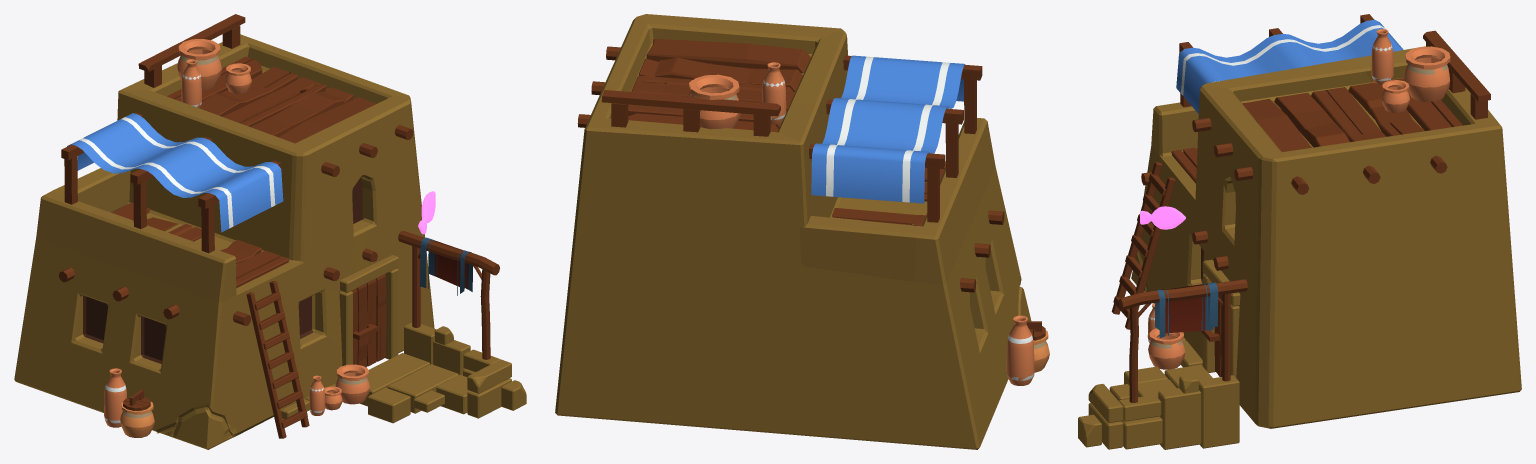
File: desert-house.glb
3 renders of one model, left to right at view 1: azimuth 30°, elevation 25°; view 2: azimuth 150°, elevation 25°; view 3: azimuth 270°, elevation 25°, orthographic. The views are drawn at different scales.
Visible parts, largest first — view 1: 整体, 布料, 屋顶木块, 布料架子, 房门, 屋顶木块.001, 楼梯1.001, 平面.002, 柱体.001, 柱体.007, 楼梯1, 柱体.008 (+24 smaller); view 2: 整体, 布料, 屋顶木块, 平面.002, 布料架子, 柱体.008, 小罐子.001, 屋顶木块.001, 小罐子.004, 柱体.003, 带把手罐; view 3: 整体, 屋顶木块, 布料, 屋檐台阶.004, 柱体.007, 屋檐台阶.003, 柱体.008, 柱体.001, 平面.002, 楼梯1.001, 楼梯1, 柱体.010 (+20 smaller).
Part boxes in pixels (x1,y1,x2,y2): 整体: (14,34,434,449); 布料: (67,113,283,232); 屋顶木块: (167,56,375,143); 布料架子: (61,112,281,253); 房门: (351,274,386,367); 屋顶木块.001: (112,202,289,287); 楼梯1.001: (246,281,309,438); 平面.002: (138,14,245,87); 柱体.001: (233,231,499,325); 柱体.007: (420,237,472,295); 楼梯1: (254,292,307,428); 柱体.008: (177,39,221,90); 整体: (555,14,1031,449); 布料: (811,55,964,203); 屋顶木块: (628,38,810,132); 平面.002: (601,90,780,136); 布料架子: (809,55,982,222); 柱体.008: (689,74,740,129); 小罐子.001: (1006,315,1034,385); 屋顶木块.001: (832,163,945,226); 小罐子.004: (762,62,786,124); 柱体.003: (960,210,1004,292); 带把手罐: (1033,330,1049,372); 整体: (1131,46,1521,428); 屋顶木块: (1242,78,1462,151); 布料: (1176,19,1403,113); 屋檐台阶.004: (1199,375,1239,448); 柱体.007: (1155,282,1218,338); 屋檐台阶.003: (1158,388,1201,449); 柱体.008: (1403,46,1450,101); 柱体.001: (1118,172,1247,310); 平面.002: (1423,30,1490,119); 楼梯1.001: (1111,162,1175,329); 楼梯1: (1113,173,1165,318); 柱体.010: (1148,328,1185,369).
Size of the model in its own units: 3.61 by 2.84 by 3.46.
